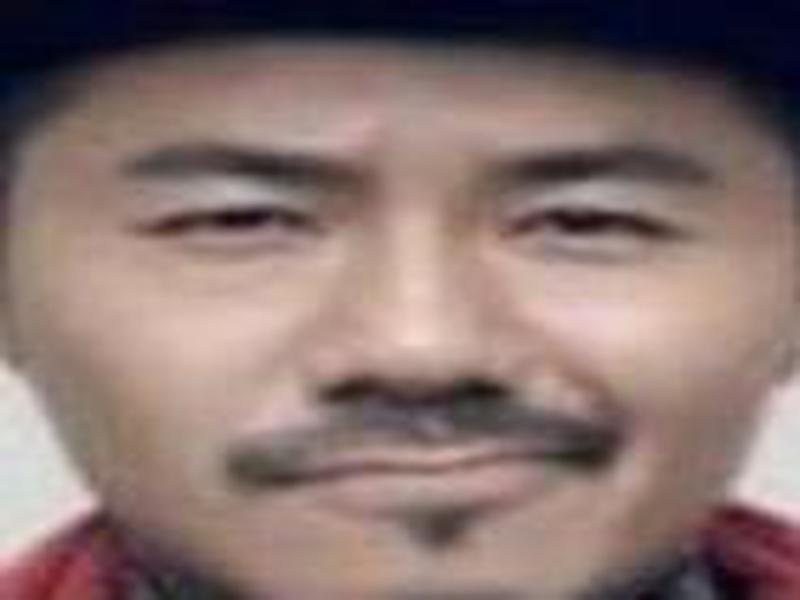without_mask: (16, 51, 782, 591)
